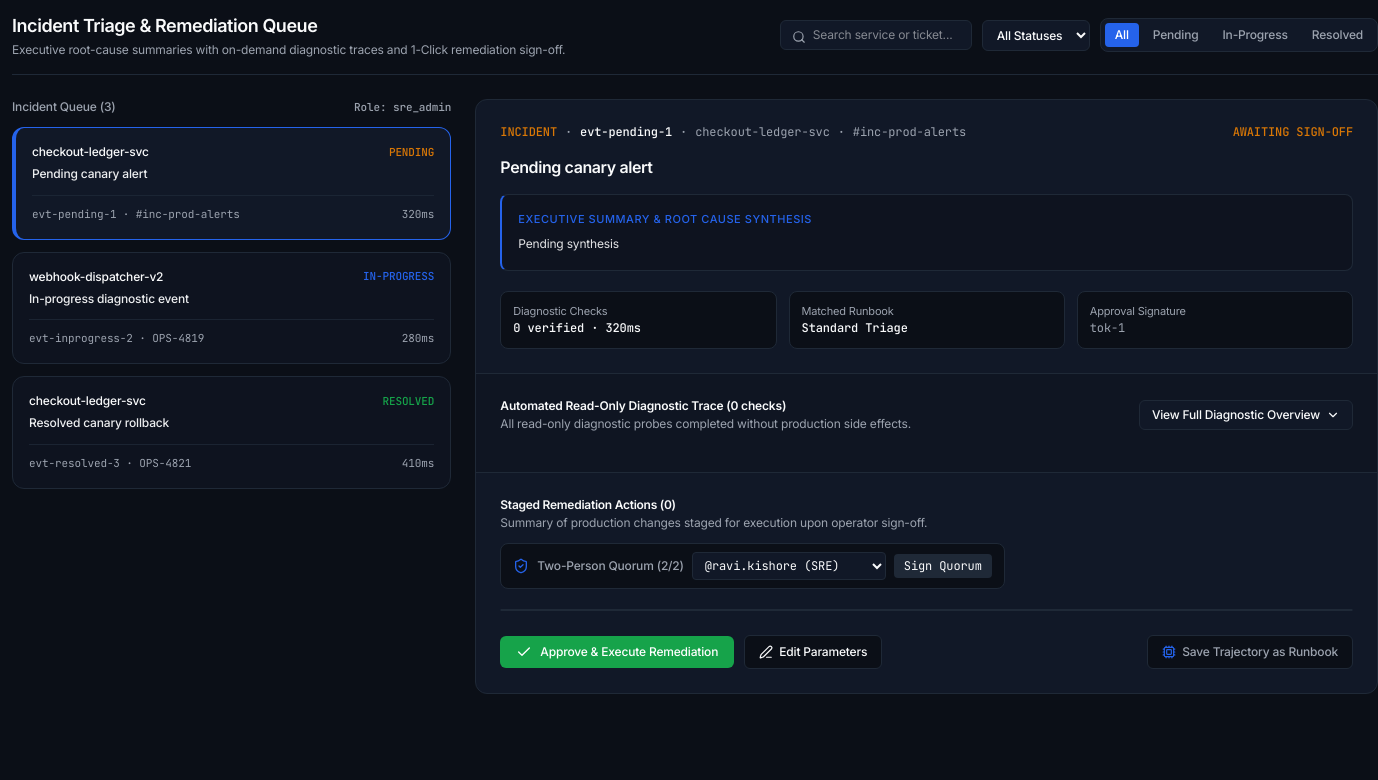
Test: React 19 Workbench UI Components (@testing-library/react) › filters incidents by Pending, In-Progress, and Resolved using the Incident Status Filter dropdown
The image size is (1378, 780).
Select "Pending" in the dropdown named "Incident Status Filter". click: (1036, 35)
box: 982,20 -> 1090,50
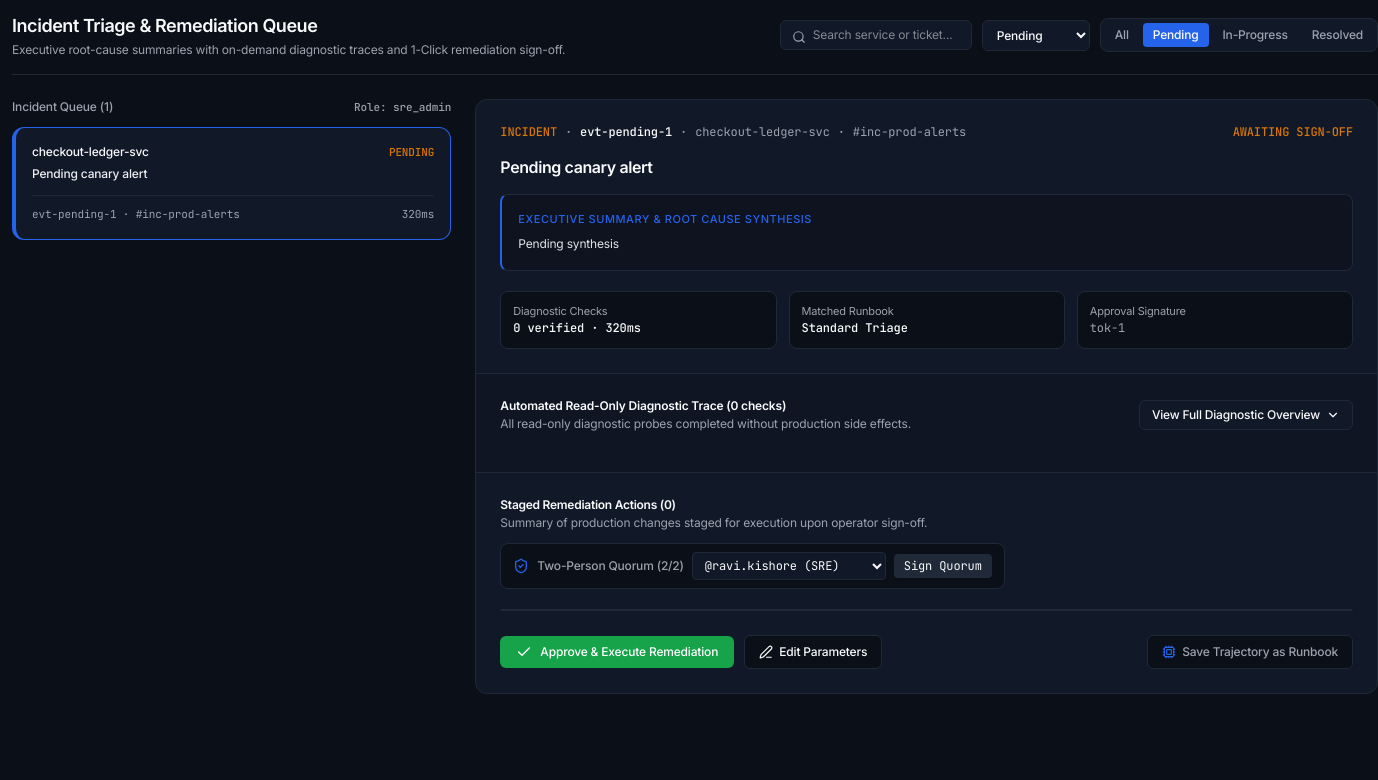
Expected: the text "Pending canary alert" is shown, 32,166 -> 147,181
Result: the text "Incident Queue (1)" is shown at 12,99 -> 113,115
Select "In-Progress" in the dropdown named "Incident Status Filter". click: (1036, 35)
box: 982,20 -> 1090,50
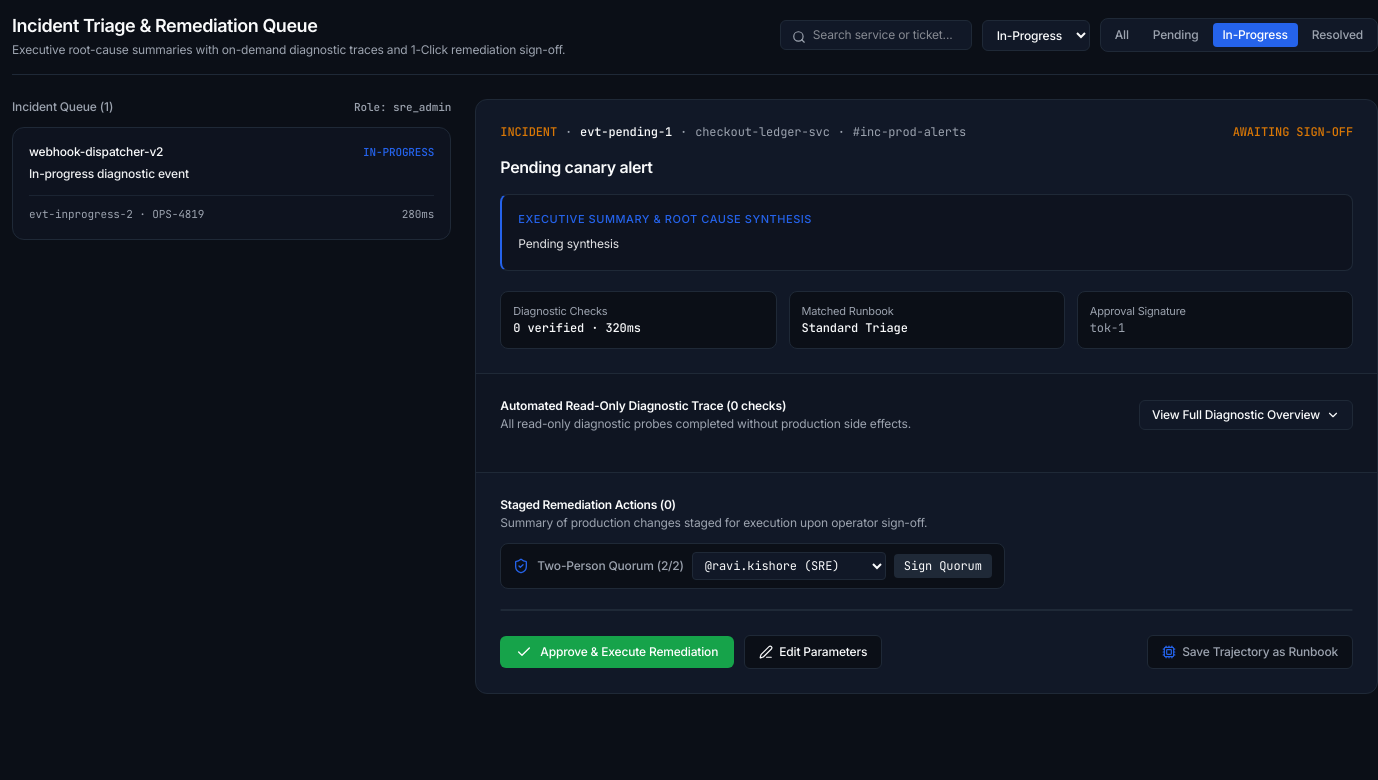
Result: the text "Incident Queue (1)" is shown at 12,99 -> 113,115
Result: the text "In-progress diagnostic event" is shown at 29,166 -> 189,181
Select "Resolved" in the dropdown named "Incident Status Filter". click: (1036, 35)
box: 982,20 -> 1090,50
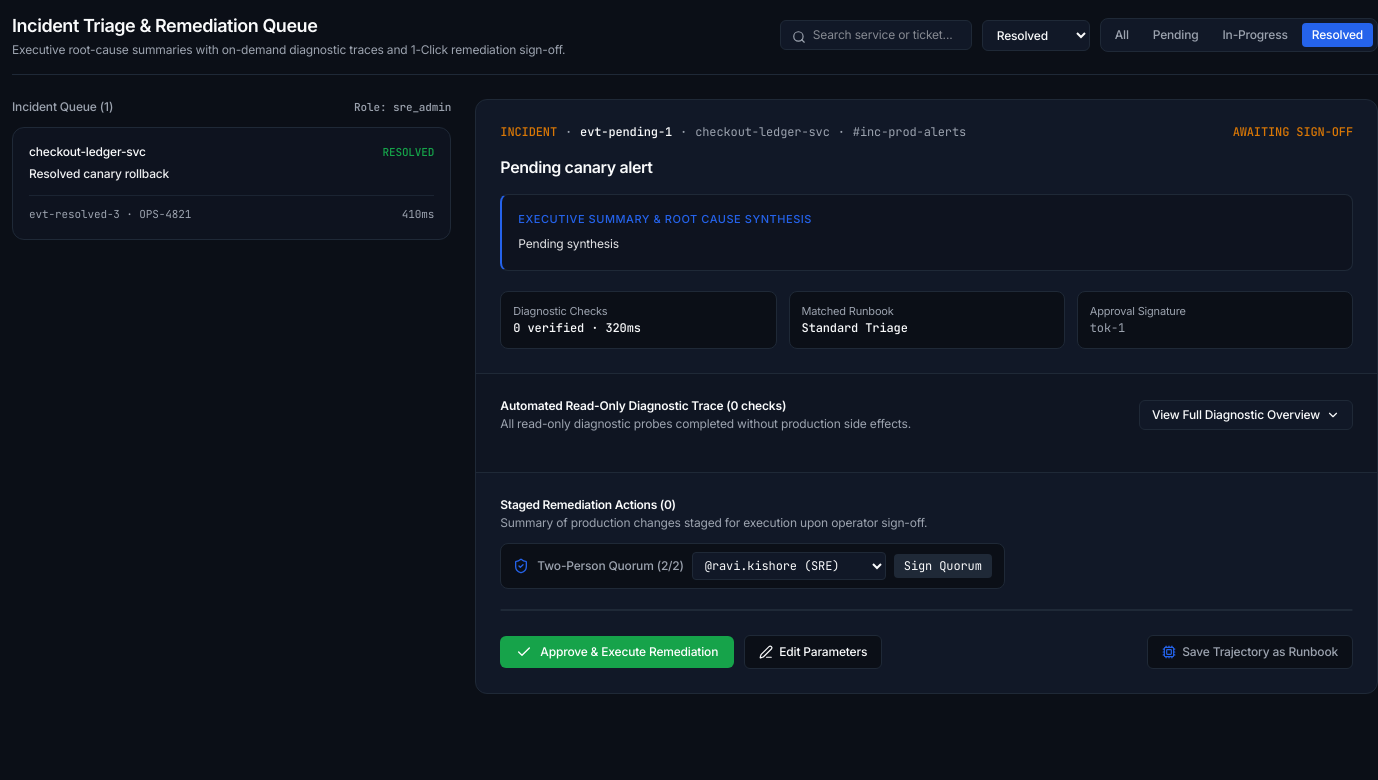
Result: the text "Incident Queue (1)" is shown at 12,99 -> 113,115
Result: the text "Resolved canary rollback" is shown at 29,166 -> 169,181
